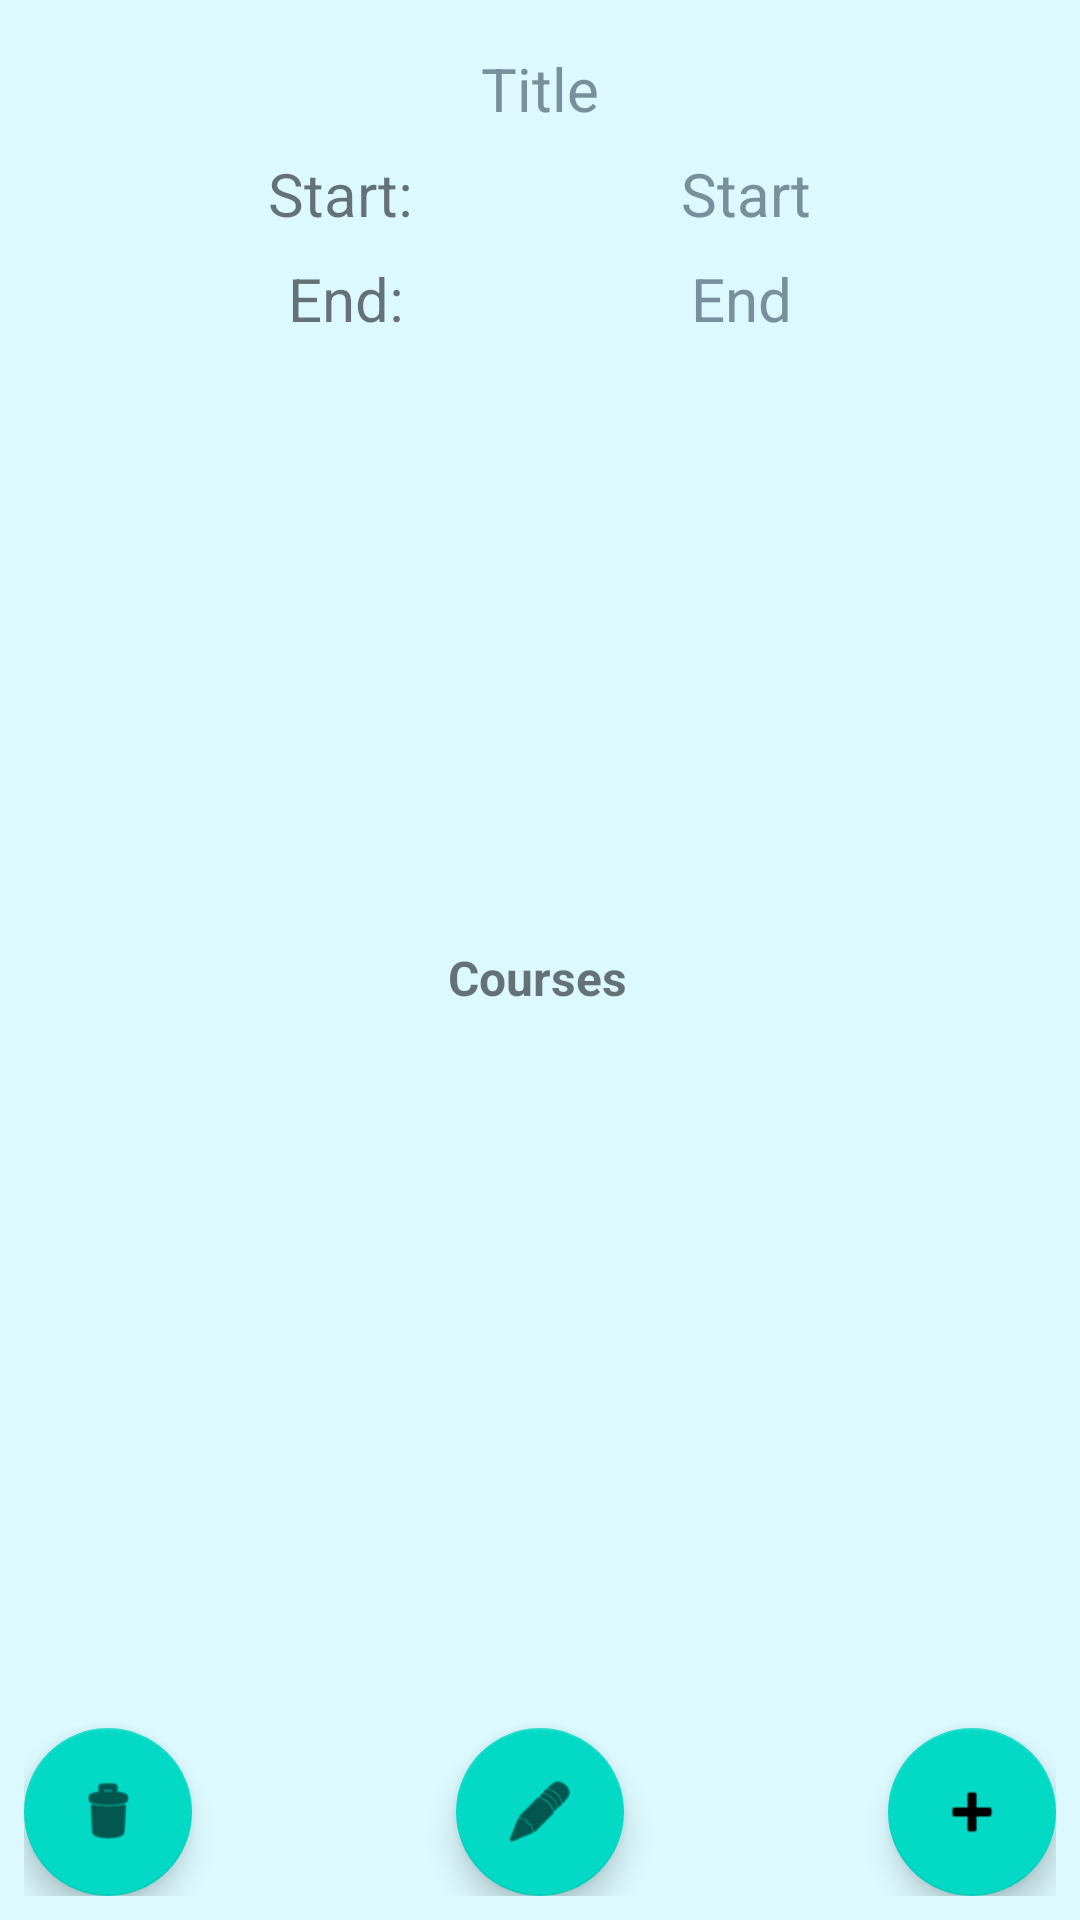

Where to tap for icons on this 1080px×1920px app screen, as point (x, y):
Add course: point (972, 1812)
Delete term: point (108, 1812)
Modify term: point (540, 1812)
